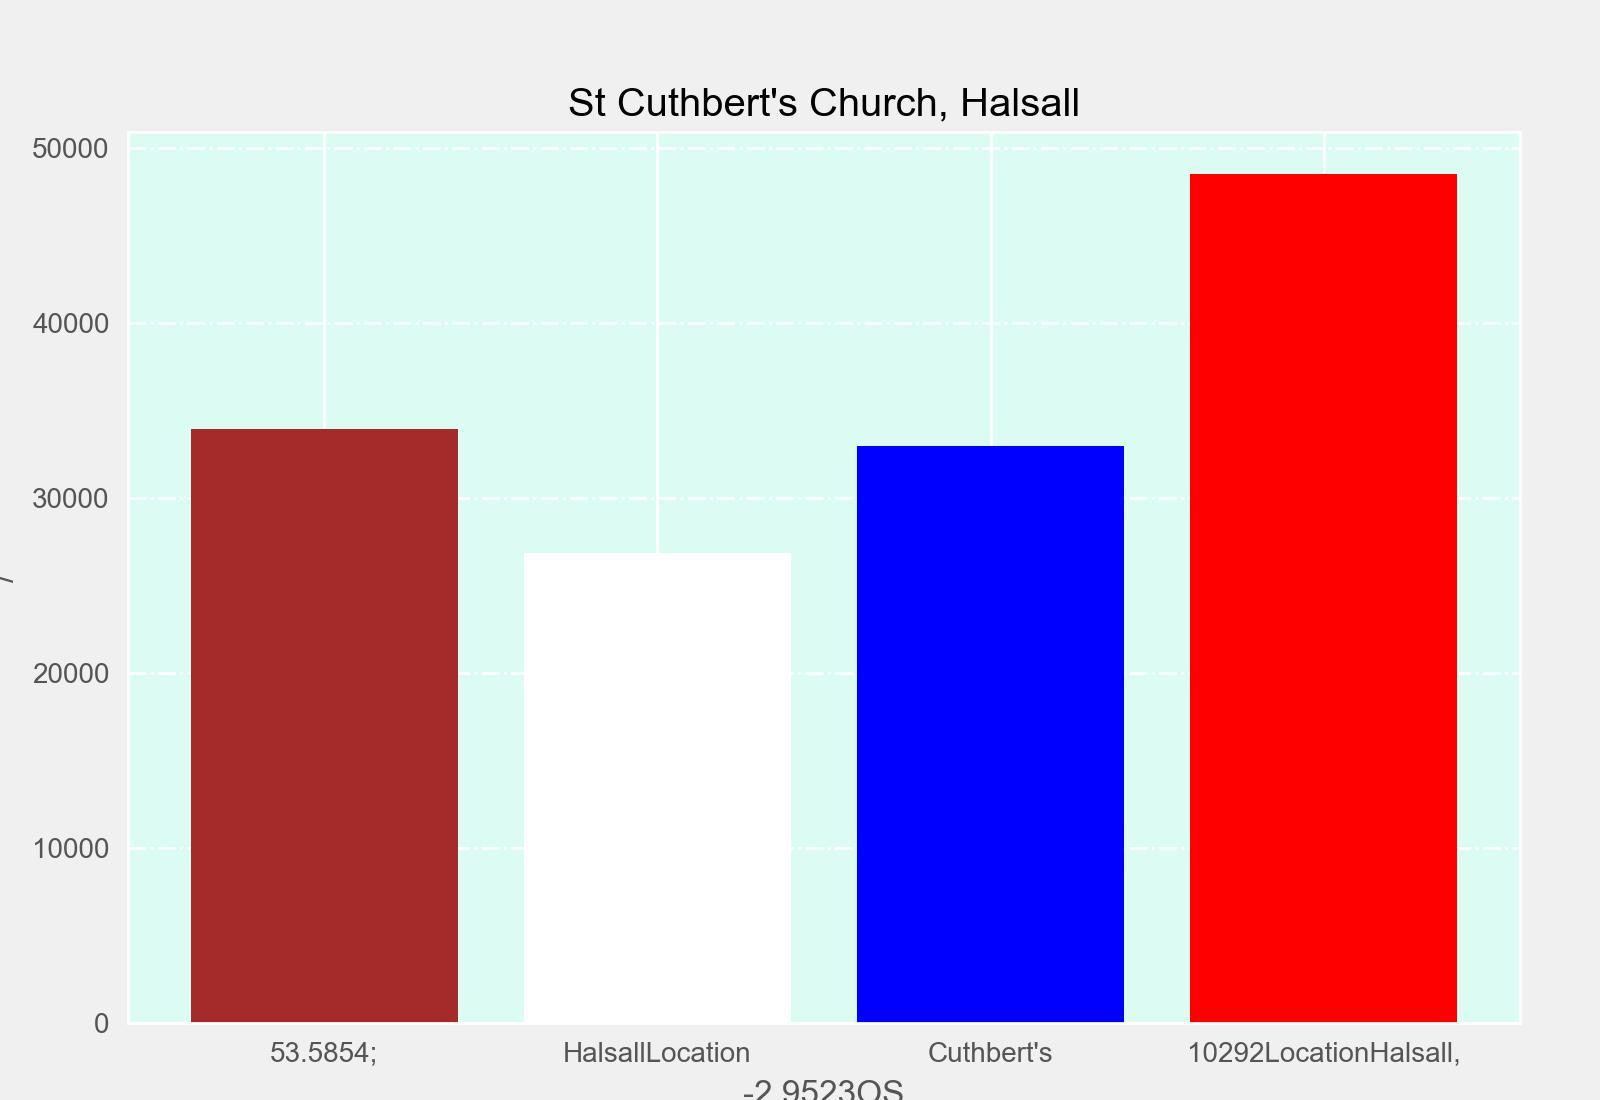axis: (0, 139, 109, 1039)
rectangle: (1190, 174, 1457, 1023), (192, 429, 457, 1023), (857, 446, 1123, 1023), (524, 553, 790, 1023)
